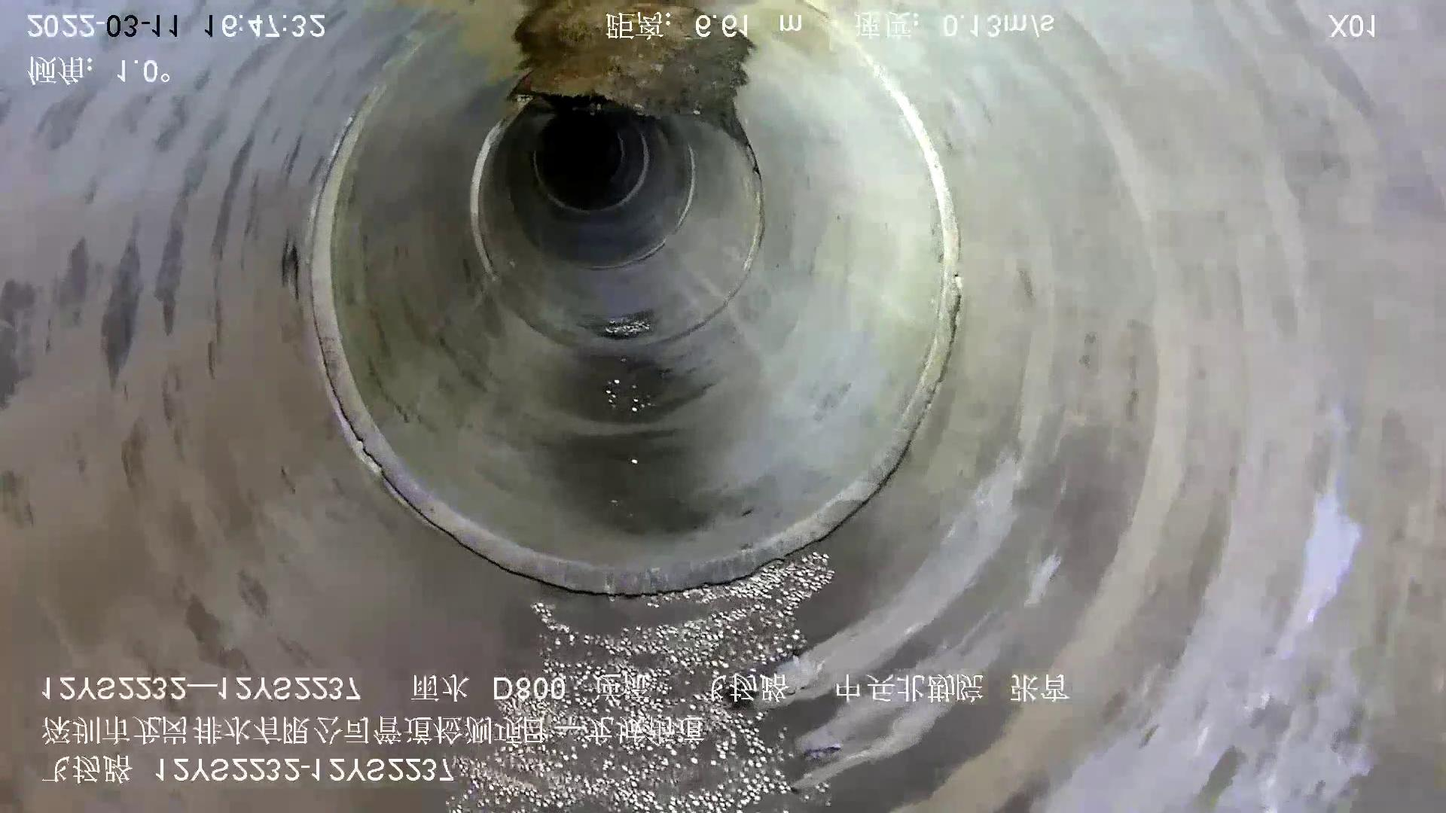CJ: (513, 1, 754, 126)
CKTJ: (300, 24, 961, 599), (470, 97, 527, 285), (743, 152, 765, 272)
